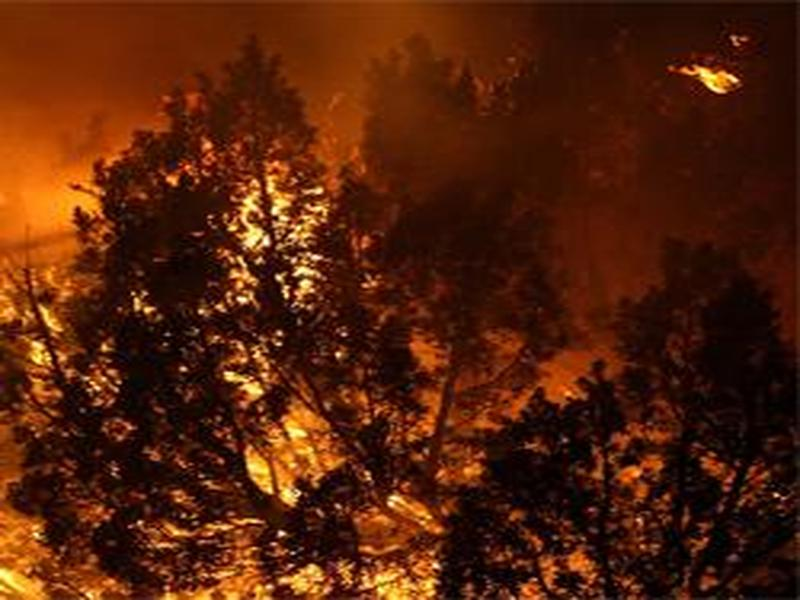FIRE: (8, 233, 555, 600)
